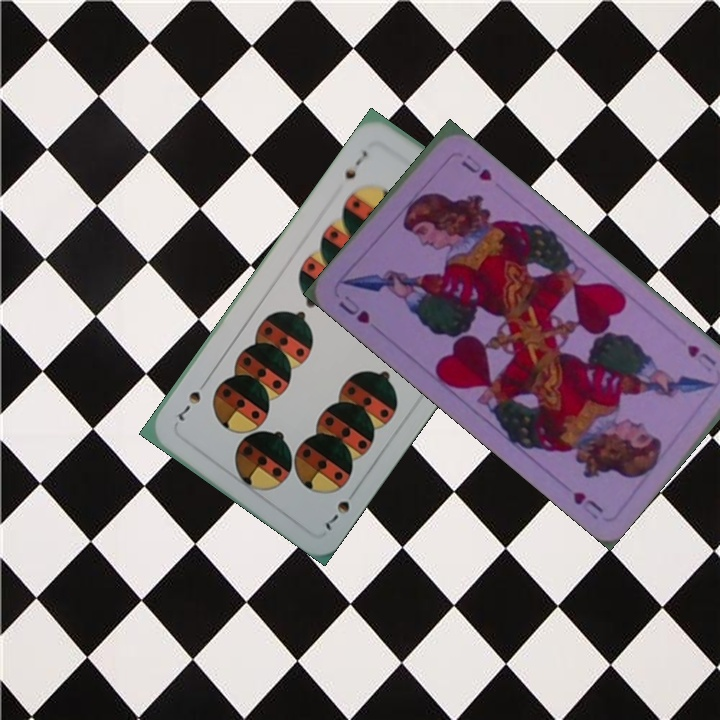HU: (334, 291, 373, 327), (683, 340, 719, 369)
S7: (321, 496, 353, 533), (340, 146, 371, 183)
